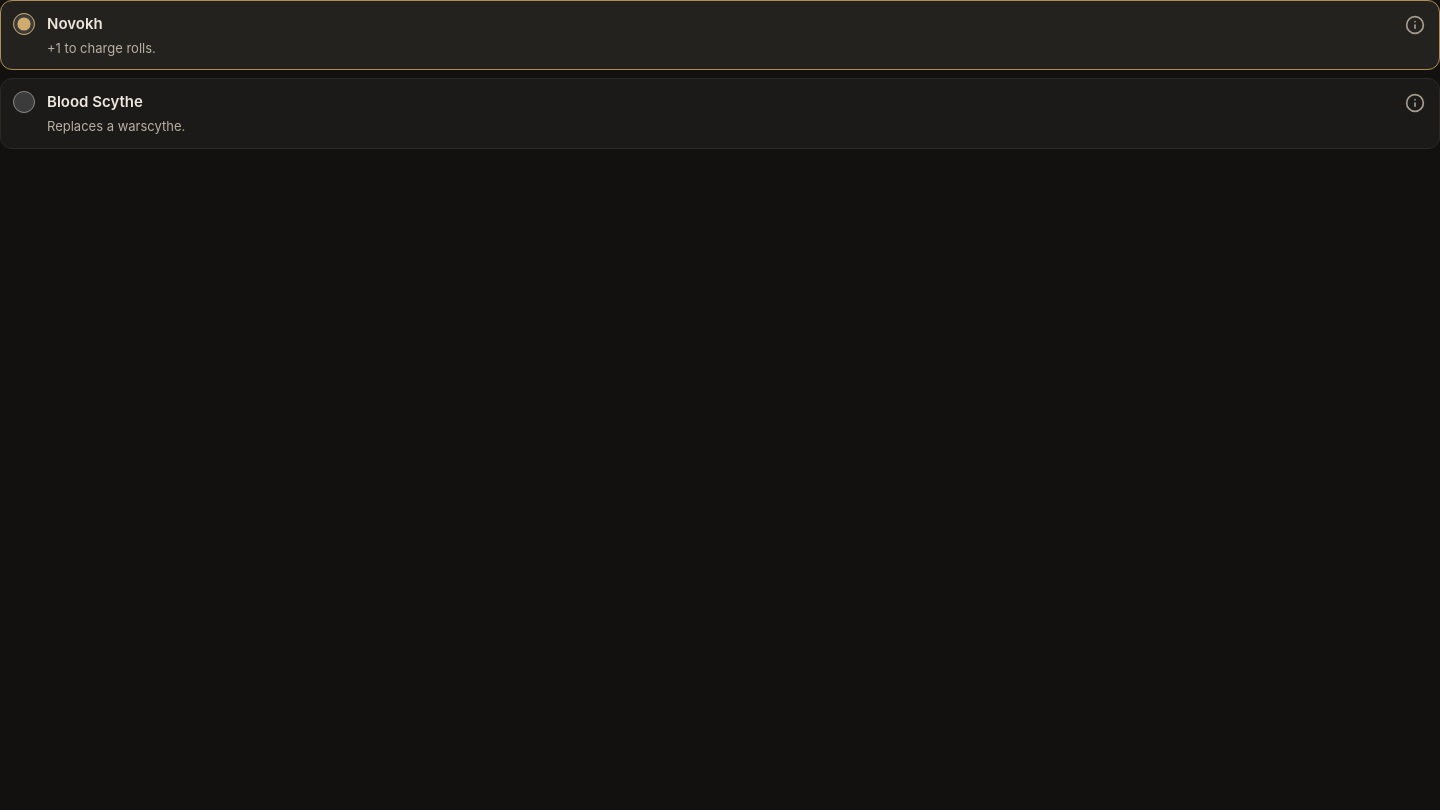
ⓘ opens the full text: abilities in the chosen wording, rules, and weapon profiles
Click the button named "About Novokh" at (1415, 25), box [1393,3,1437,47]
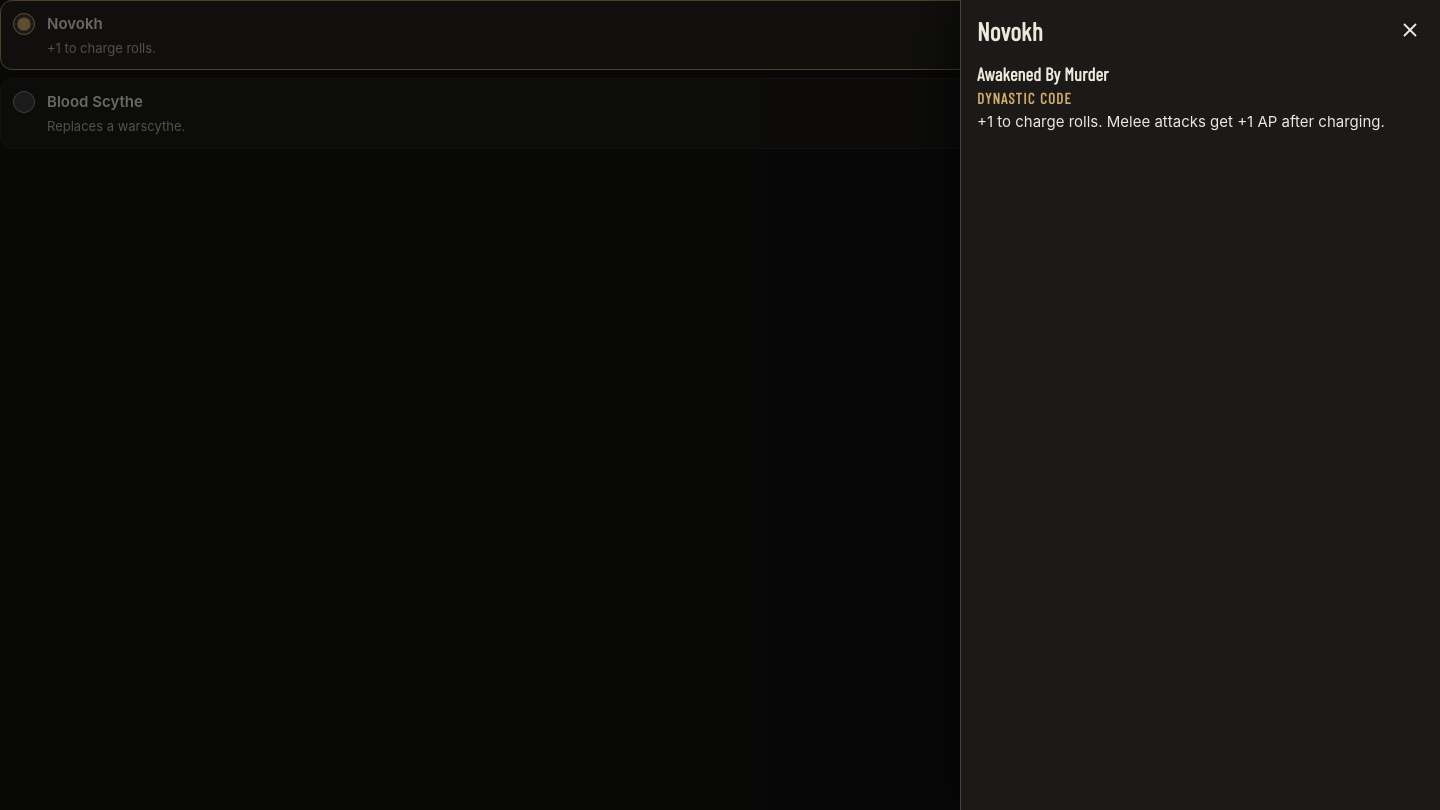
Check: the heading "Awakened By Murder" is shown, box [977,63,1109,85]
Check: the text "+1 to charge rolls. Melee attacks get +1 AP after charging." is shown, box [977,111,1424,134]
Press Escape
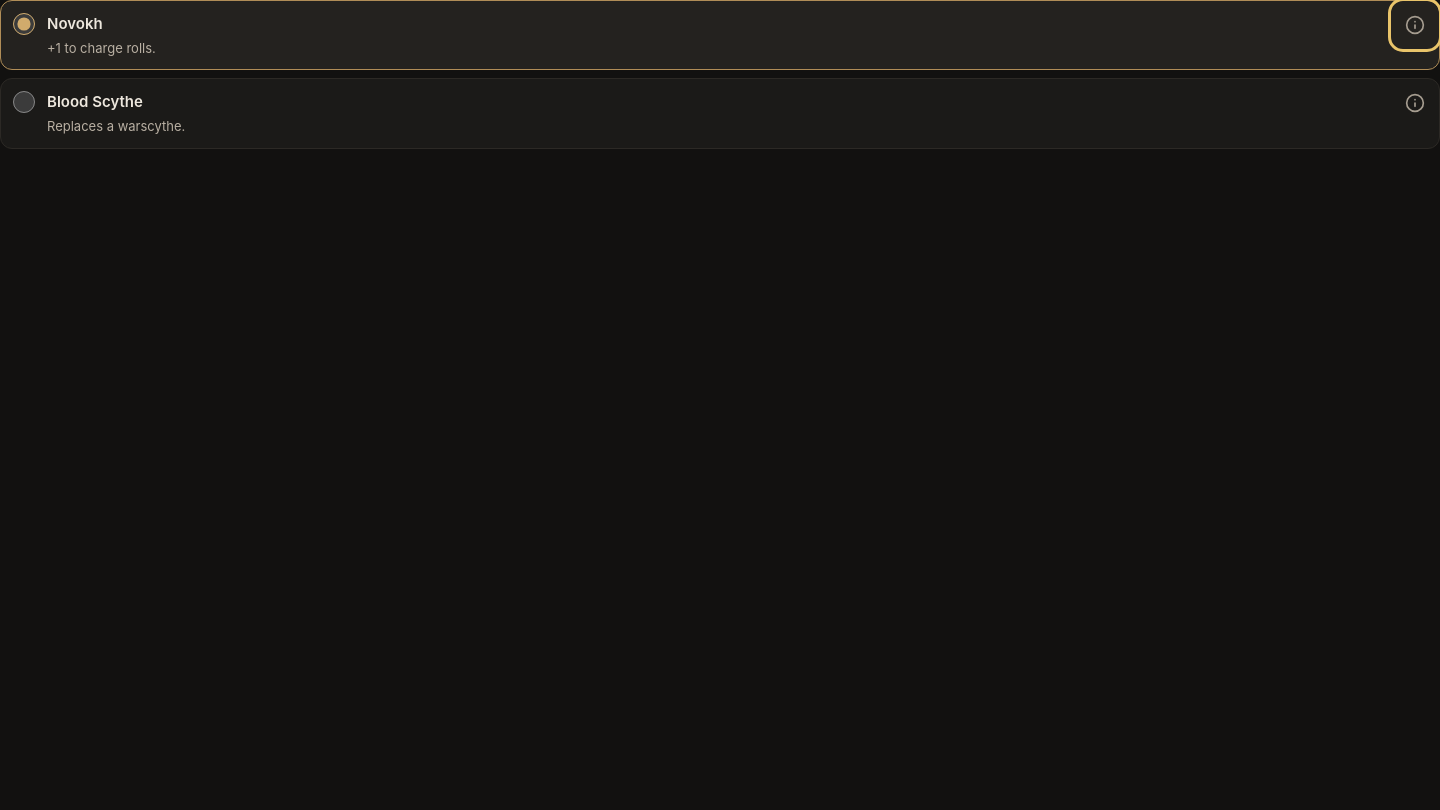
Click the button named "About Blood Scythe" at (1415, 103), box [1393,81,1437,125]
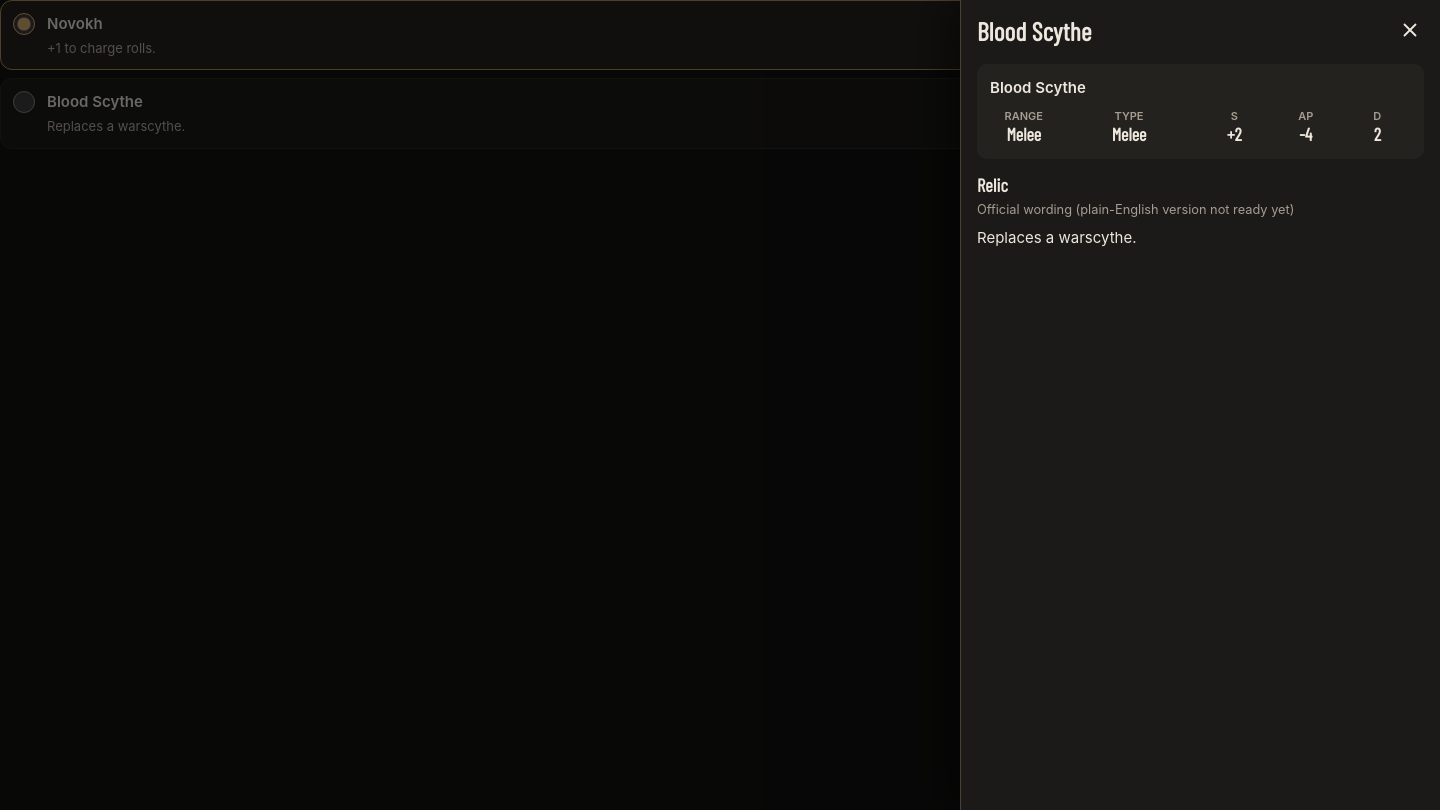
Check: the element "Blood Scythe" shows "Melee", box [1006,123,1041,145]
Check: the text "Replaces a warscythe." is shown, box [977,228,1136,247]
